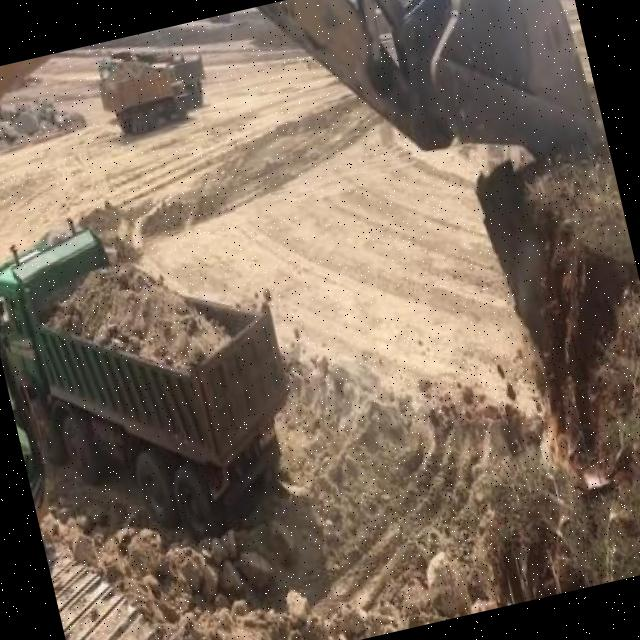Dump Truck: (0, 187, 318, 574), (92, 42, 194, 143)
Excavator: (0, 0, 640, 640)
